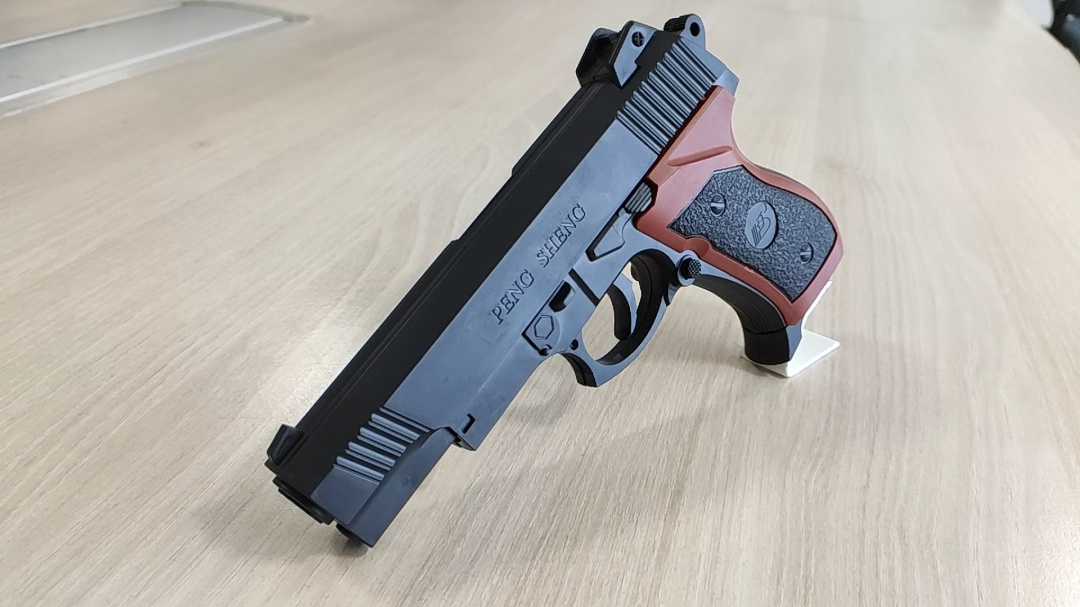gun: (614, 208, 629, 223)
